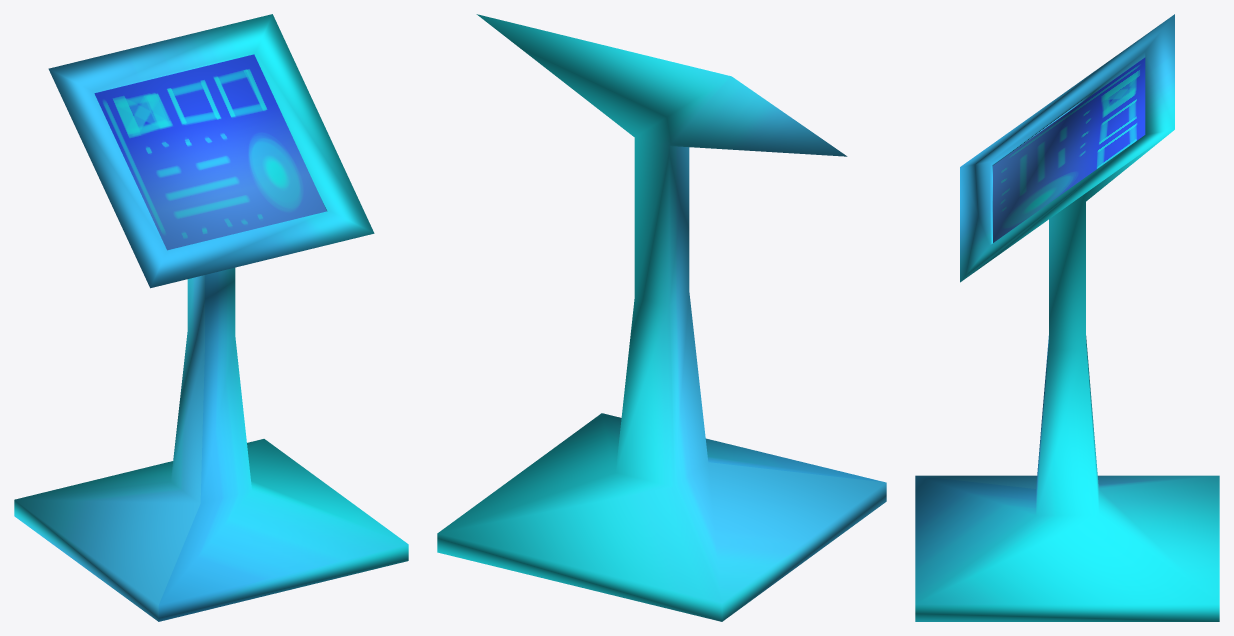
The model's file is elevator_trigger.fbx.
The picture shows the model from 3 angles, left to right: view 1: azimuth 30°, elevation 25°; view 2: azimuth 150°, elevation 25°; view 3: azimuth 270°, elevation 25°; orthographic projection. The views are drawn at different scales.
Parts seen in each view (by area): view 1: Cube.001; view 2: Cube.001; view 3: Cube.001.
Part boxes in pixels (x1,y1,x2,y2): Cube.001: [14, 14, 408, 621]; Cube.001: [437, 14, 886, 621]; Cube.001: [915, 14, 1219, 621].
Bounding box in the file's own units: 847 × 1490 × 847.
Materials: 1 (1 with a texture image).
